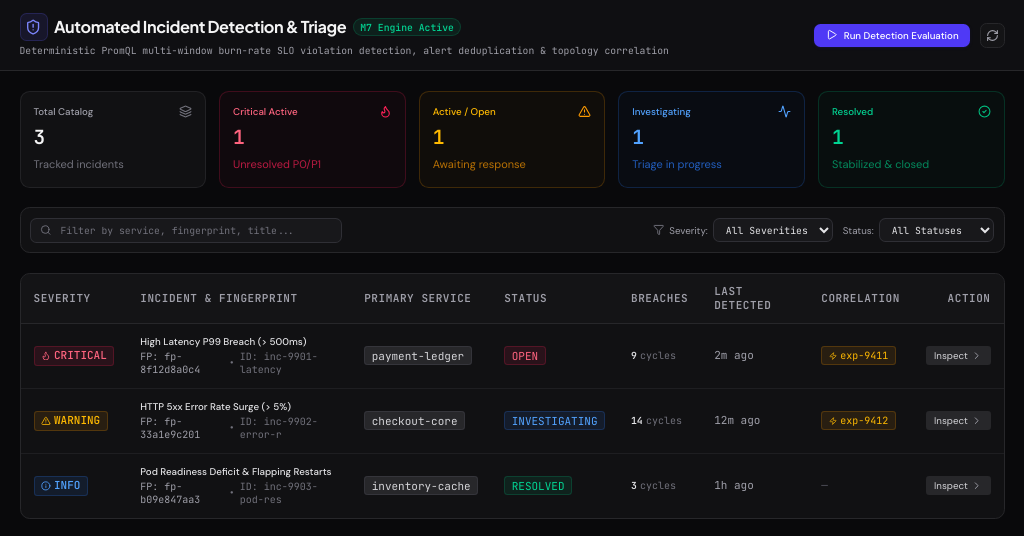
Test: Milestone M7: Automated Incident Detection & SLO Violation Triage UI › filters incidents by severity dropdown
The image size is (1024, 536).
Expected: the text "High Latency P99 Breach (> 500ms)" is shown, [140,335,306,348]
Select "Critical" in the dropdown named "Filter by Severity" at {"x": 773, "y": 230}, box [713,218,833,242]
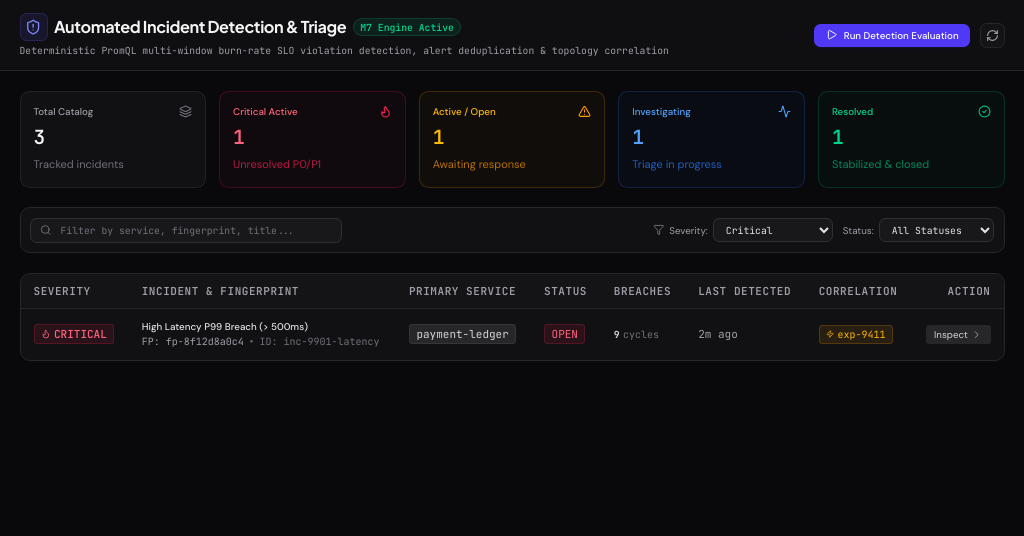
Expected: the text "High Latency P99 Breach (> 500ms)" is shown, [142,320,308,333]
Now the text "Pod Readiness Deficit" is gone
